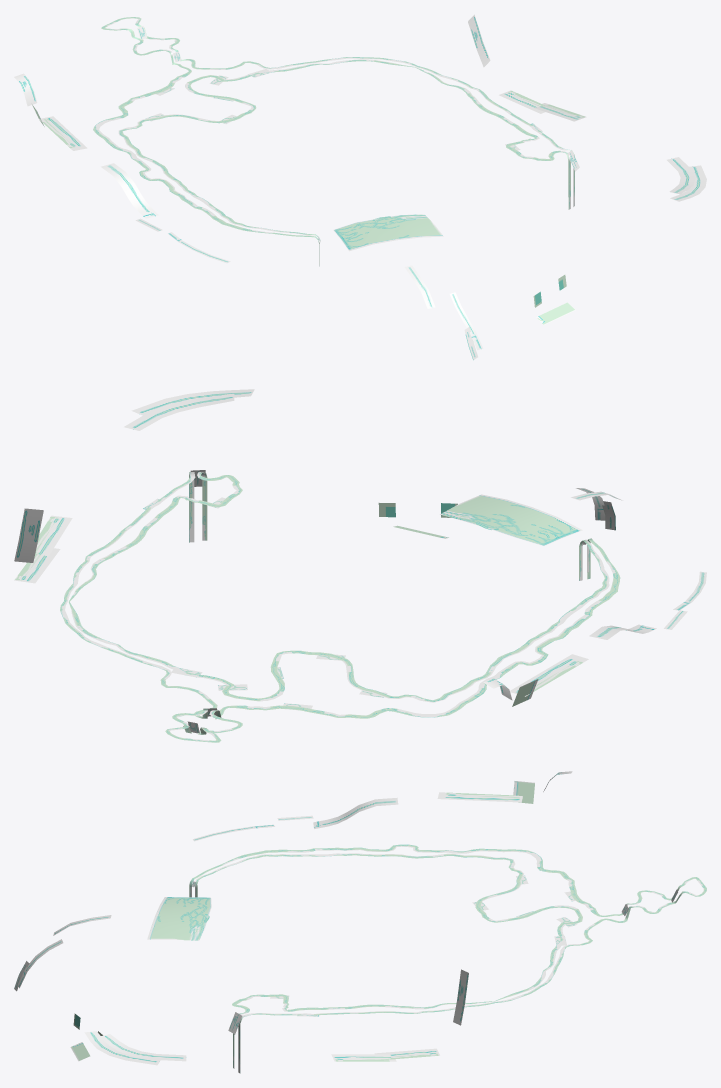
The model's file is Mesh_Home_RF_River_09_SM.fbx.
3 renders of one model, top to bottom at view 1: azimuth 30°, elevation 25°; view 2: azimuth 150°, elevation 25°; view 3: azimuth 270°, elevation 25°, orthographic. The views are drawn at different scales.
Visible parts, largest first — view 1: Mesh_Home_RF_River_09; view 2: Mesh_Home_RF_River_09; view 3: Mesh_Home_RF_River_09.
Boxes of the visible parts, x1=… form: Mesh_Home_RF_River_09: x1=14, y1=14, x2=706, y2=360; Mesh_Home_RF_River_09: x1=14, y1=389, x2=706, y2=742; Mesh_Home_RF_River_09: x1=14, y1=771, x2=706, y2=1073.
Size of the model in its own units: 7236 by 1939 by 8777.
Materials: 1 (1 with a texture image).
